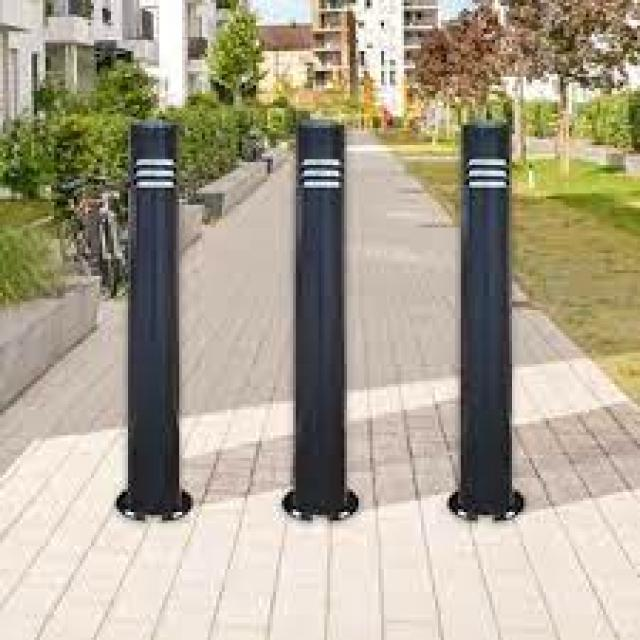bollard: (449, 108, 528, 532), (286, 99, 359, 523), (122, 120, 194, 542)
